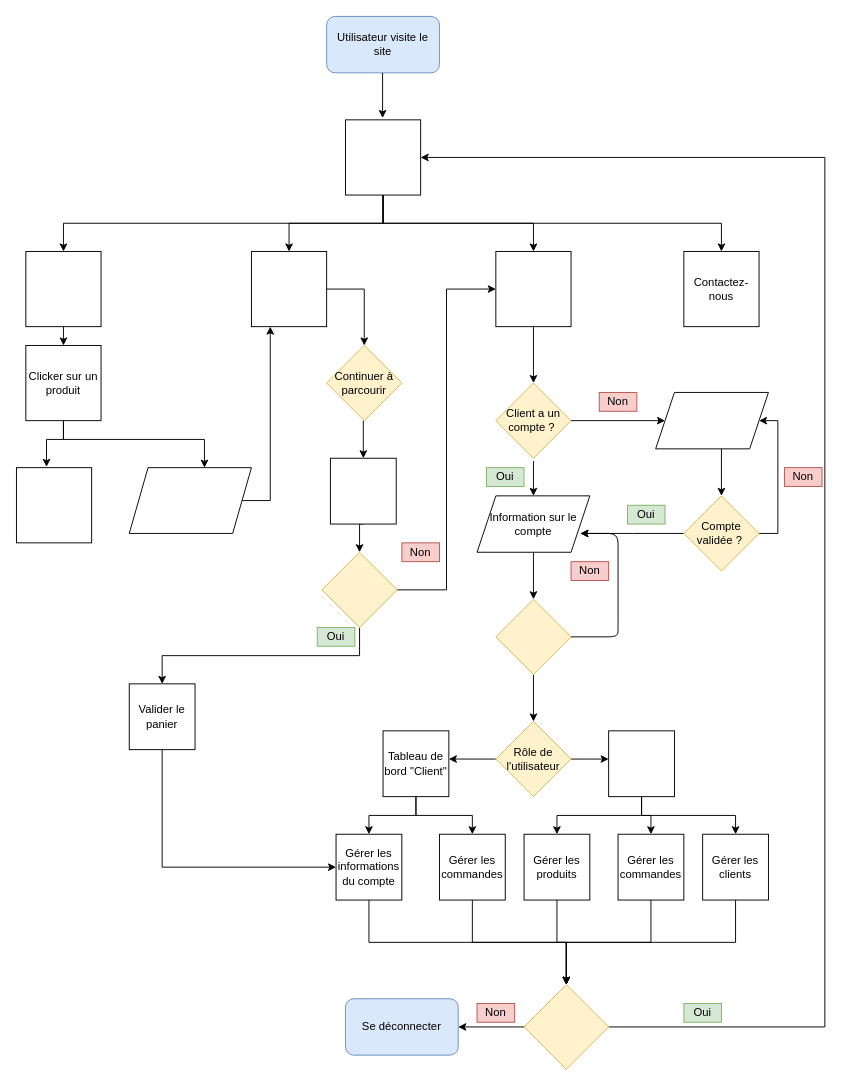
The diagram is 849 pixels wide and 1086 high, and some of its shapes have lost their labels. Here are the shapes that lost their labels. From the top down, the centre of each, then its label:
[383,157]: Page accueil
[63,289]: Parcourir les produits
[289,289]: Panier
[533,289]: Se connecter
[711,420]: Créer un compte
[54,505]: Produits similaires
[189,500]: Ajouter dans le panier
[362,490]: Payer
[359,589]: Etes-vous connecté?
[533,636]: Connexion valide ?
[641,763]: Tableau de bord "Admin"
[566,1026]: Continuer l'utilisation du site web ?
